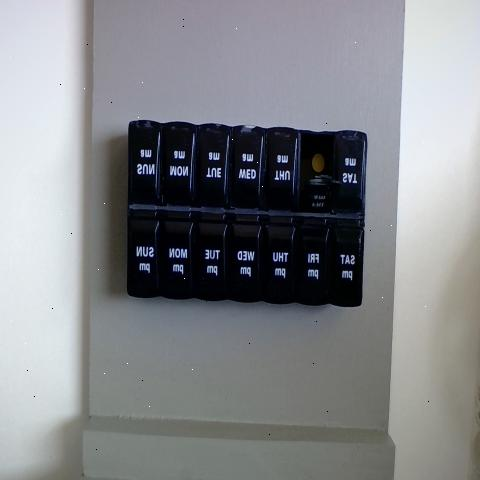FRI-pm: (293, 216, 328, 302)
MON-am: (155, 124, 190, 204)
MON-pm: (156, 213, 190, 296)
Open: (298, 134, 338, 199)
Pill: (309, 152, 326, 175)
PillBox: (103, 104, 383, 346)
SAT-am: (327, 132, 364, 210)
SAT-pm: (324, 221, 360, 304)
SUN-am: (126, 118, 159, 204)
SUN-pm: (125, 207, 156, 296)
THU-am: (266, 130, 295, 209)
THU-pm: (260, 221, 296, 299)
TUE-am: (193, 124, 224, 204)
TUE-pm: (194, 216, 225, 297)
WED-am: (225, 127, 257, 209), (229, 213, 261, 293)
